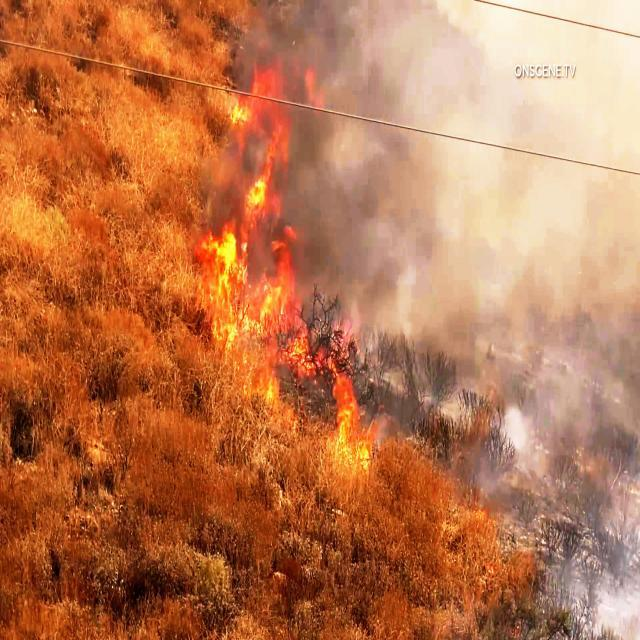Fire: (211, 36, 316, 456), (324, 318, 379, 486)
Smoke: (301, 0, 639, 290), (382, 292, 639, 435), (532, 447, 640, 640)
